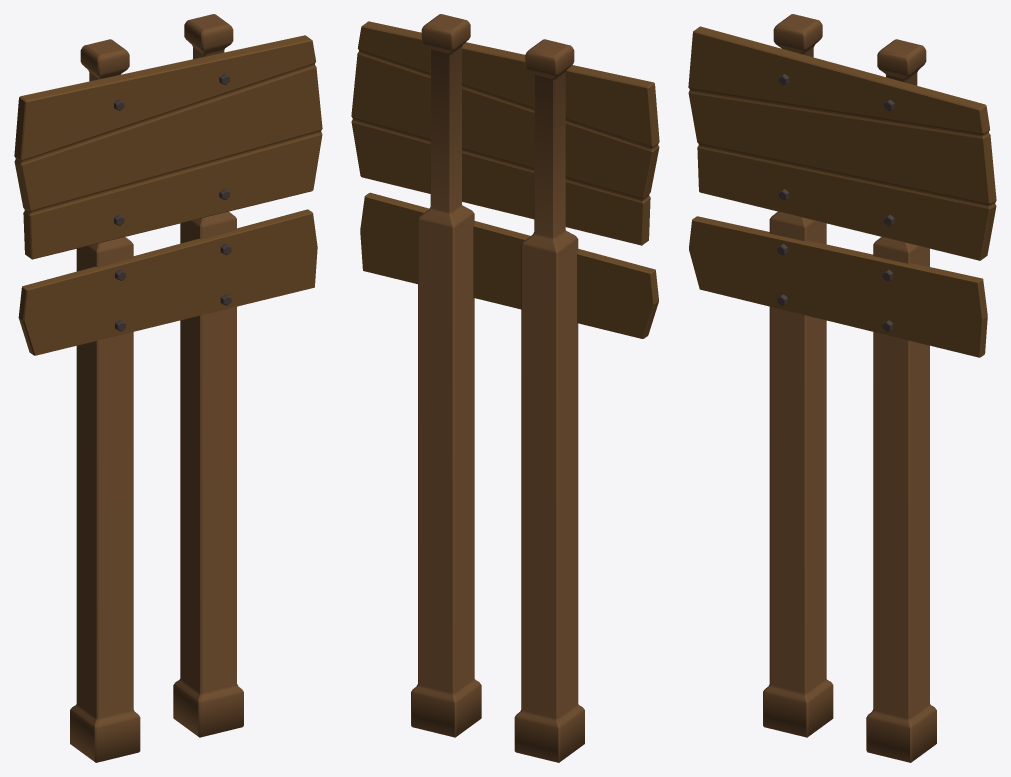
File: props_77.gltf
3 views of the same model, side by side, from view 1: azimuth 30°, elevation 25°; view 2: azimuth 150°, elevation 25°; view 3: azimuth 330°, elevation 25° (orthographic).
Parts seen in each view (by area): view 1: props_77; view 2: props_77; view 3: props_77.
Part boxes in pixels (box(x1,y1,x2,y2)): props_77: box(14, 14, 322, 762); props_77: box(351, 14, 659, 762); props_77: box(688, 14, 996, 762).
Bounding box in the file's own units: 1.17 × 2.6 × 0.204.
Materials: 1 (1 with a texture image).
